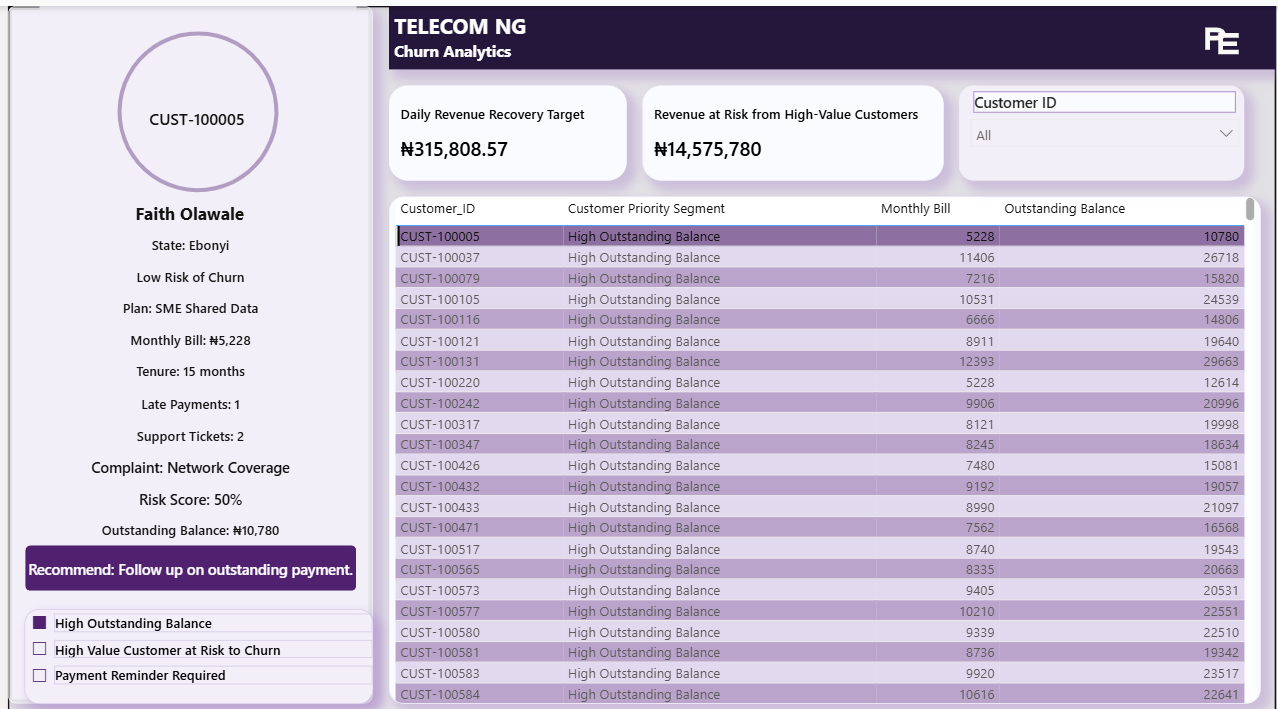

What the dashboard file says about the page in this screenshot:
{"tool":"powerbi","page":{"name":"Customer Profile","canvas":[1280,720],"ordinal":3},"visuals":[{"type":"shape","box":[0,0,368,704],"z":0},{"type":"textbox","box":[384,0,896,64],"z":1000},{"type":"image","box":[1184,0,64,64],"z":2000},{"type":"slicer","fields":{"Values":["TelecomChurn_Nigeria_Clean.State"]},"box":[592,544,192,64],"z":3000},{"type":"cardVisual","fields":{"Data":["Measures..Revenue at Risk from High-Value Customers"]},"box":[640,80,304,96],"z":4000},{"type":"cardVisual","fields":{"Data":["Measures..Daily Revenue Recovery Target"]},"box":[384,80,240,96],"z":5000},{"type":"slicer","fields":{"Values":["TelecomChurn_Nigeria_Clean.Customer Priority Segment"]},"box":[16,608,352,96],"z":6000},{"type":"tableEx","fields":{"Values":["TelecomChurn_Nigeria_Clean.Customer_ID","TelecomChurn_Nigeria_Clean.Customer Priority Segment","TelecomChurn_Nigeria_Clean.Monthly_Bill","TelecomChurn_Nigeria_Clean.Outstanding_Balance"]},"box":[384,192,880,512],"z":7000},{"type":"donutChart","title":"Customer Distribution by Contract Type","fields":{"Category":["TelecomChurn_Nigeria_Clean.Contract_Type"],"Y":["Measures..Total Customers"]},"box":[32,0,320,208],"z":8000},{"type":"cardVisual","fields":{"Data":["Measures..Selected Customer"]},"box":[128,80,128,64],"z":9000},{"type":"cardVisual","fields":{"Data":["Measures..Selected Plan"]},"box":[80,288,208,32],"z":10000},{"type":"cardVisual","fields":{"Data":["Measures..Selected Tenure"]},"box":[80,352,208,32],"z":11000},{"type":"cardVisual","fields":{"Data":["Measures..Selected Late Payments"]},"box":[80,384,208,32],"z":12000},{"type":"cardVisual","fields":{"Data":["Measures..Selected Support Tickets"]},"box":[80,416,208,32],"z":13000},{"type":"cardVisual","fields":{"Data":["Measures..Selected Complaint"]},"box":[80,448,208,32],"z":14000},{"type":"cardVisual","fields":{"Data":["Measures..Selected Customer Name"]},"box":[64,192,240,32],"z":15000},{"type":"cardVisual","fields":{"Data":["Measures..Customer State"]},"box":[80,224,208,32],"z":16000},{"type":"cardVisual","fields":{"Data":["Measures..Recommended Action"]},"box":[16,544,336,48],"z":17000},{"type":"cardVisual","fields":{"Data":["Measures..Risk Score"]},"box":[80,480,208,32],"z":18000},{"type":"cardVisual","fields":{"Data":["Measures..Monthly Bill"]},"box":[80,320,208,32],"z":19000},{"type":"cardVisual","fields":{"Data":["Measures..Outstanding Balance"]},"box":[80,512,208,32],"z":20000},{"type":"cardVisual","fields":{"Data":["Measures..Churn Risk Status"]},"box":[80,256,208,32],"z":21000},{"type":"slicer","fields":{"Values":["TelecomChurn_Nigeria_Clean.Customer_ID"]},"box":[960,80,288,96],"z":22000}]}

Visuals, with their boxes in screenshot pixels (x1, y1, x2, y2), scaled from the page's 1280x720 canvas onto the 1278x709 screenshot:
shape: <region>0, 0, 367, 693</region>
textbox: <region>383, 0, 1277, 63</region>
image: <region>1182, 0, 1246, 63</region>
slicer - TelecomChurn_Nigeria_Clean.State: <region>591, 536, 783, 599</region>
cardVisual - Measures..Revenue at Risk from High-Value Customers: <region>639, 79, 943, 173</region>
cardVisual - Measures..Daily Revenue Recovery Target: <region>383, 79, 623, 173</region>
slicer - TelecomChurn_Nigeria_Clean.Customer Priority Segment: <region>16, 599, 367, 693</region>
tableEx - TelecomChurn_Nigeria_Clean.Customer_ID x TelecomChurn_Nigeria_Clean.Customer Priority Segment: <region>383, 189, 1262, 693</region>
"Customer Distribution by Contract Type" donutChart: <region>32, 0, 351, 205</region>
cardVisual - Measures..Selected Customer: <region>128, 79, 256, 142</region>
cardVisual - Measures..Selected Plan: <region>80, 284, 288, 315</region>
cardVisual - Measures..Selected Tenure: <region>80, 347, 288, 378</region>
cardVisual - Measures..Selected Late Payments: <region>80, 378, 288, 410</region>
cardVisual - Measures..Selected Support Tickets: <region>80, 410, 288, 441</region>
cardVisual - Measures..Selected Complaint: <region>80, 441, 288, 473</region>
cardVisual - Measures..Selected Customer Name: <region>64, 189, 304, 221</region>
cardVisual - Measures..Customer State: <region>80, 221, 288, 252</region>
cardVisual - Measures..Recommended Action: <region>16, 536, 351, 583</region>
cardVisual - Measures..Risk Score: <region>80, 473, 288, 504</region>
cardVisual - Measures..Monthly Bill: <region>80, 315, 288, 347</region>
cardVisual - Measures..Outstanding Balance: <region>80, 504, 288, 536</region>
cardVisual - Measures..Churn Risk Status: <region>80, 252, 288, 284</region>
slicer - TelecomChurn_Nigeria_Clean.Customer_ID: <region>958, 79, 1246, 173</region>
